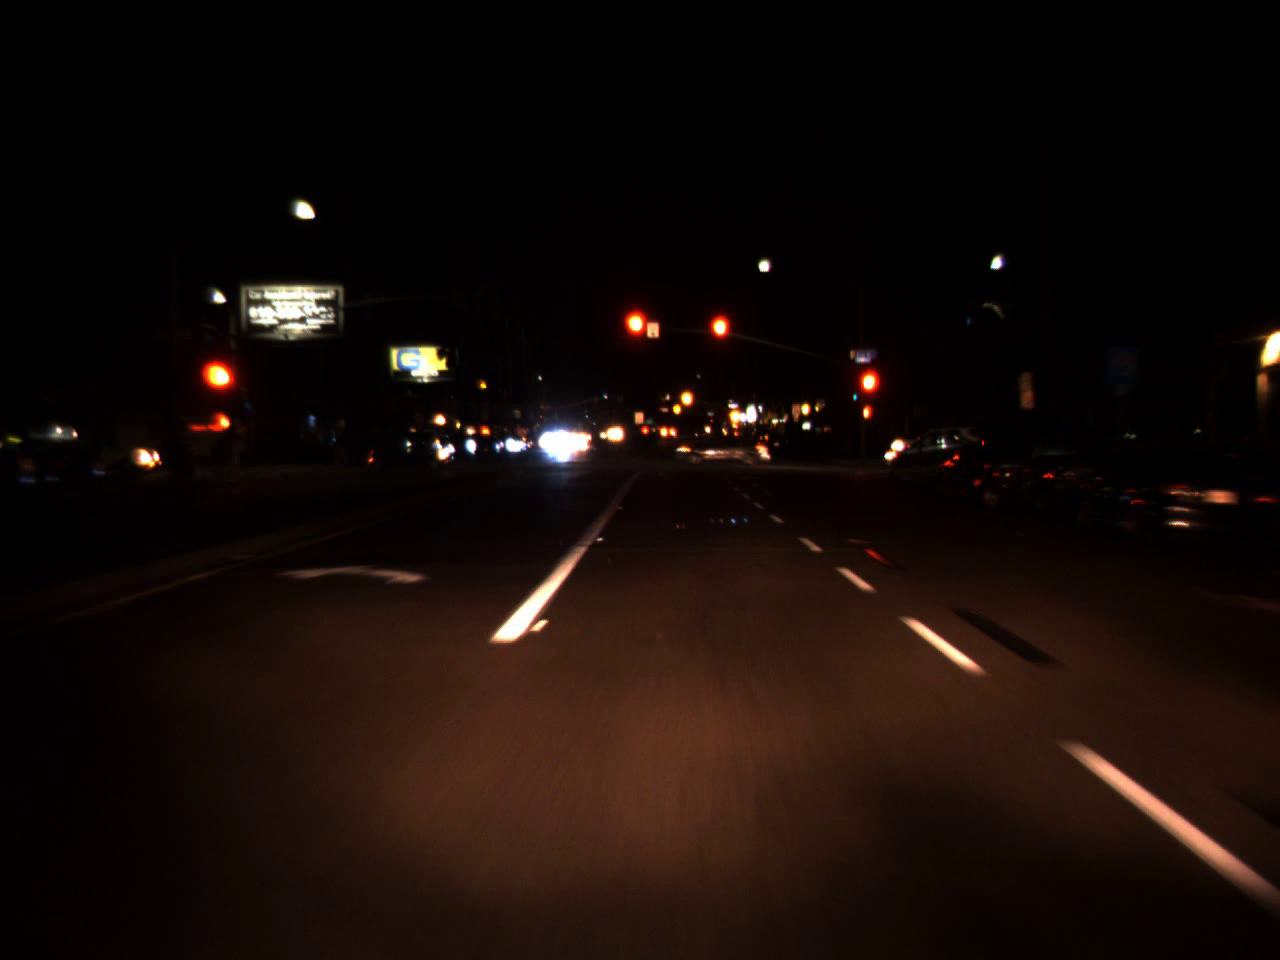stop: (203, 357, 245, 427), (620, 306, 653, 368), (856, 365, 883, 421), (707, 310, 732, 366)
warning: (678, 380, 694, 415), (727, 403, 740, 425), (672, 400, 681, 417)
